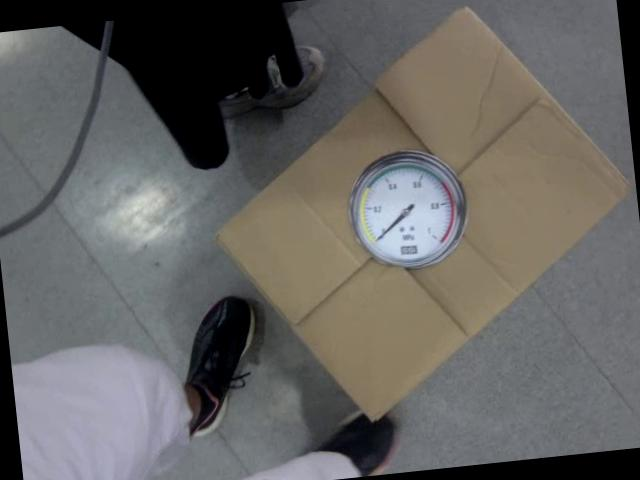Dashboard: (342, 144, 474, 275)
ssi: (399, 243, 421, 258)
